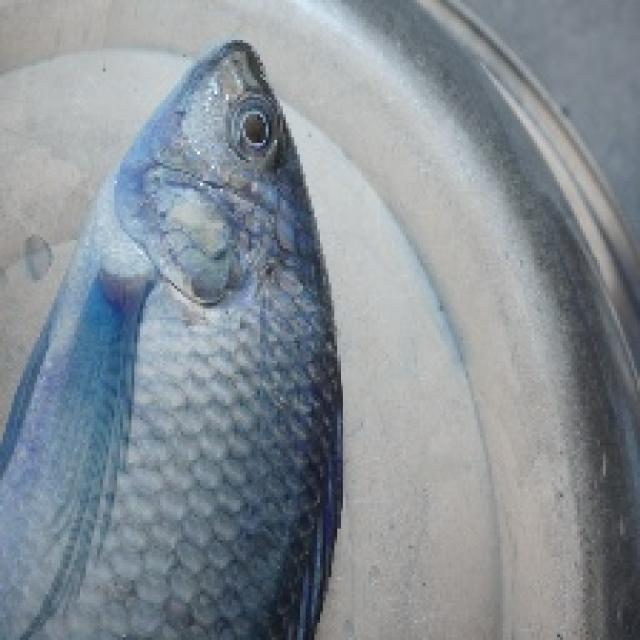Fresh: (0, 20, 369, 640)
